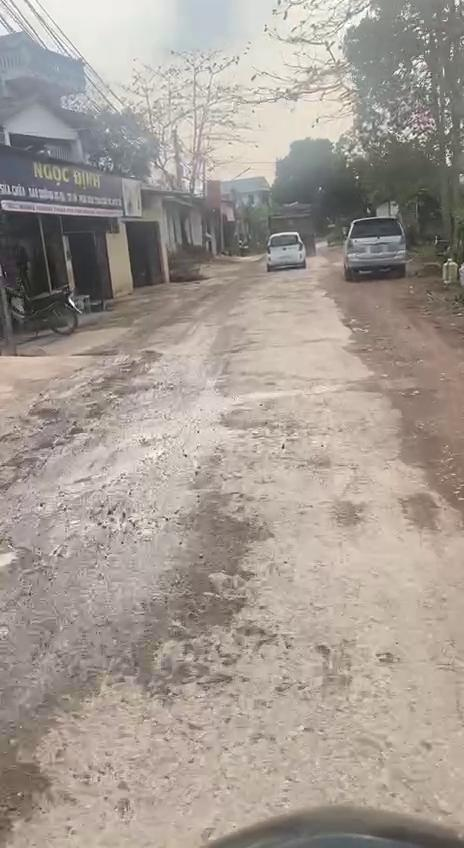pothole: (0, 743, 54, 840)
